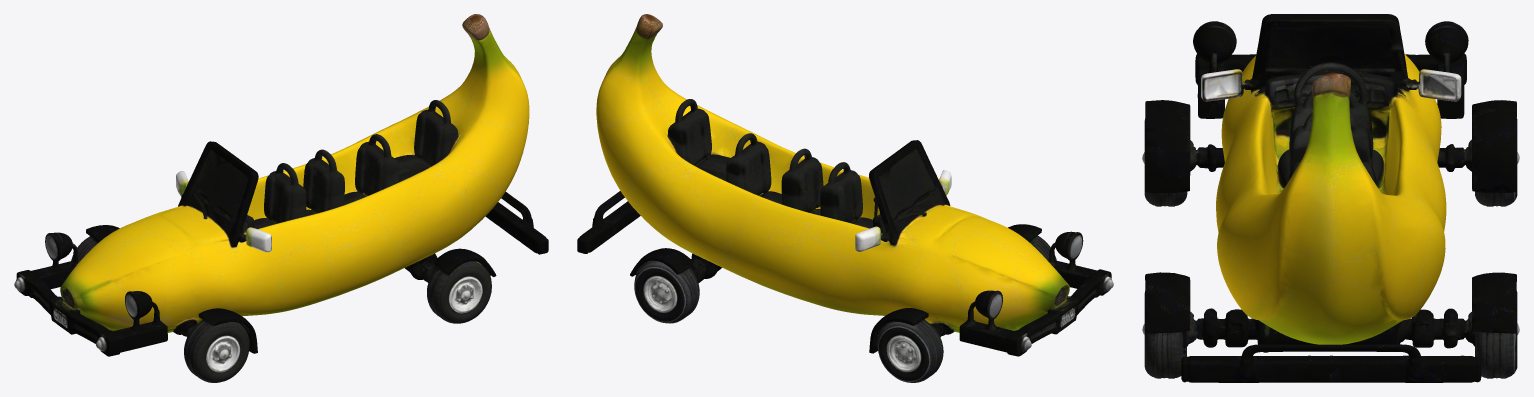
The model's file is banana.glb.
3 views of the same model, side by side, from view 1: azimuth 30°, elevation 25°; view 2: azimuth 150°, elevation 25°; view 3: azimuth 270°, elevation 25° (orthographic). The views are drawn at different scales.
Bounding box in the file's own units: 1.9 × 0.9514 × 0.9176.
Materials: 1 (1 with a texture image).
